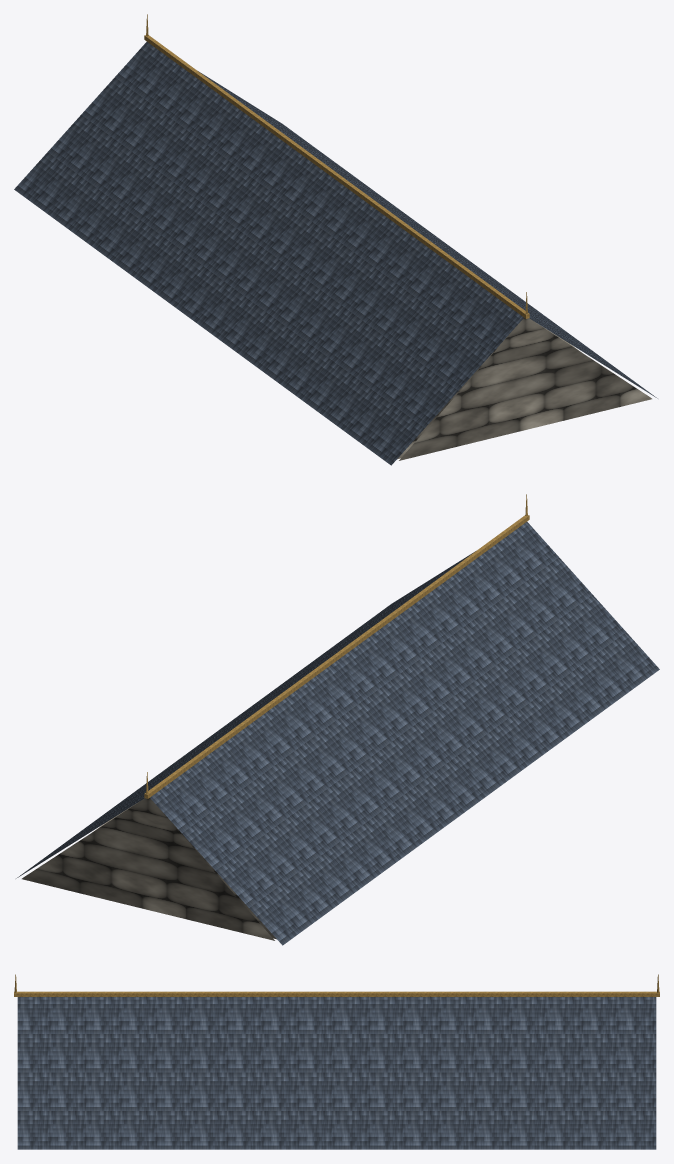
The model's file is Palace_Hall_Roof_1_LOD1.gltf.
3 renders of one model, top to bottom at view 1: azimuth 30°, elevation 25°; view 2: azimuth 150°, elevation 25°; view 3: azimuth 270°, elevation 25°, orthographic. The views are drawn at different scales.
Parts seen in each view (by area): view 1: Palace_Hall_Roof_1_LOD1; view 2: Palace_Hall_Roof_1_LOD1; view 3: Palace_Hall_Roof_1_LOD1.
Boxes of the visible parts, x1=… form: Palace_Hall_Roof_1_LOD1: x1=14, y1=14, x2=657, y2=465; Palace_Hall_Roof_1_LOD1: x1=16, y1=494, x2=659, y2=945; Palace_Hall_Roof_1_LOD1: x1=14, y1=974, x2=659, y2=1149.
Bounding box in the file's own units: 29.6 × 14.9 × 72.8.
Materials: 4 (4 with a texture image).
